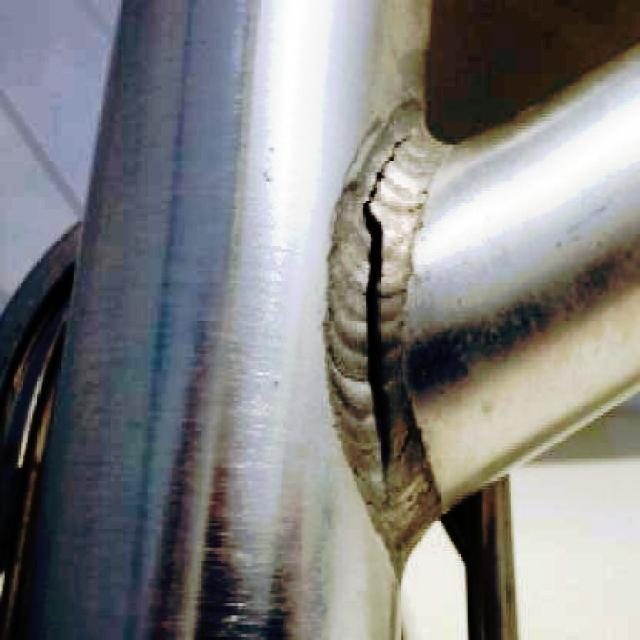crack: (364, 208, 390, 484), (371, 136, 402, 202)
